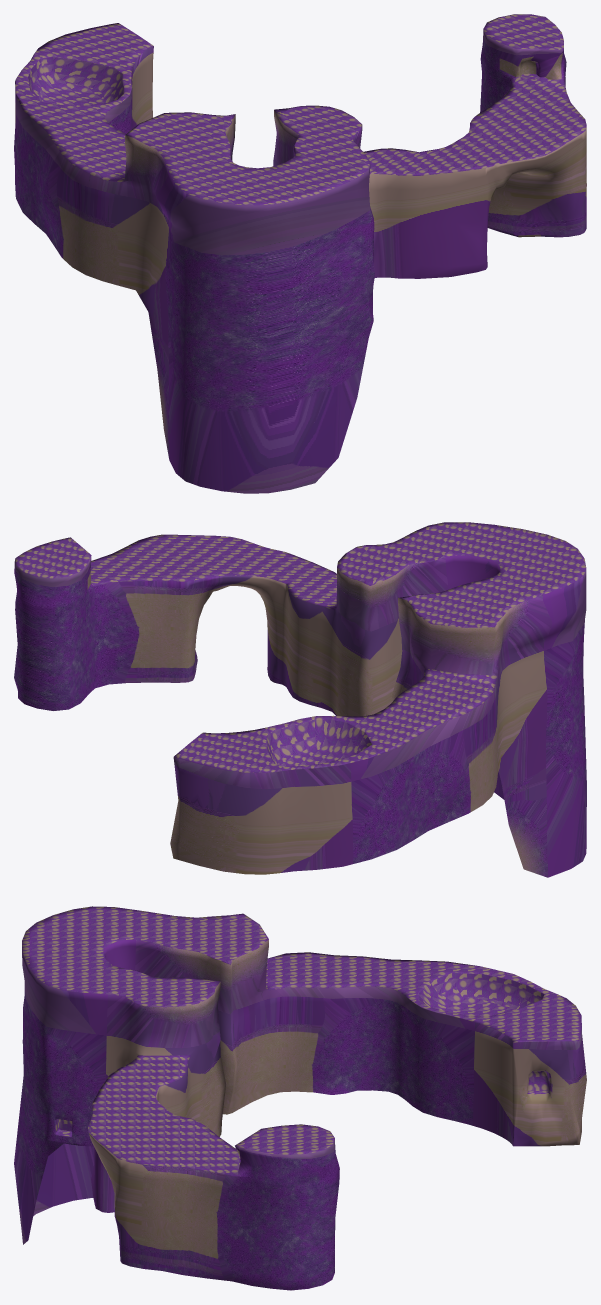
The picture shows the model from 3 angles, top to bottom: view 1: azimuth 30°, elevation 25°; view 2: azimuth 150°, elevation 25°; view 3: azimuth 270°, elevation 25°; orthographic projection. The views are drawn at different scales.
Parts seen in each view (by area): view 1: PolyShape3; view 2: PolyShape3; view 3: PolyShape3.
Boxes of the visible parts, x1,y1,x2,y2 form: PolyShape3: (14, 14, 586, 493); PolyShape3: (14, 522, 586, 877); PolyShape3: (14, 906, 586, 1290).
Bounding box in the file's own units: 1.55 × 0.8864 × 1.58.
